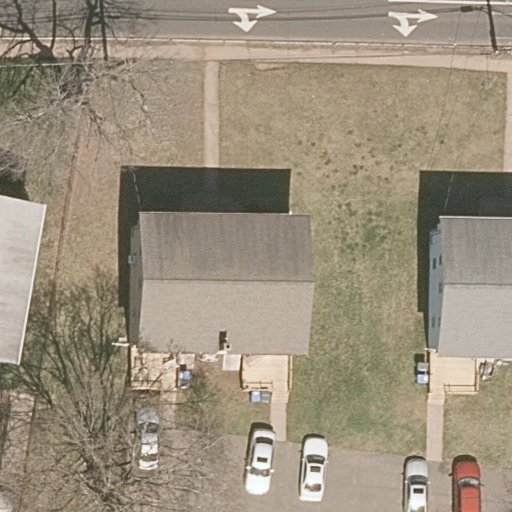DT: (473, 26, 512, 58)
